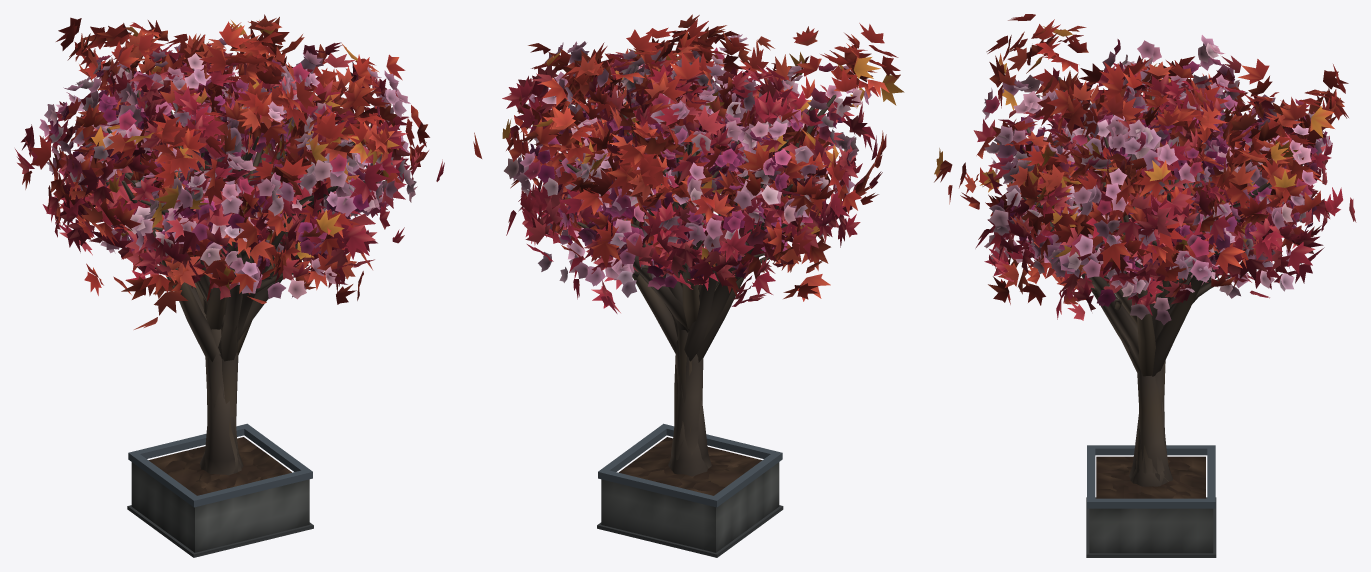
The model's file is trees317.glb.
The picture shows the model from 3 angles, left to right: view 1: azimuth 30°, elevation 25°; view 2: azimuth 150°, elevation 25°; view 3: azimuth 270°, elevation 25°; orthographic projection. The views are drawn at different scales.
Visible parts, largest first — view 1: ember-t317-leaf, maple-t317-leaf, sakura-t317-leaf, ember-t317-stone, plum-t317-leaf, ember-t317-steel, maple-t317-bark, ember-t317-bark, sakura-t317-bark, maple-t317-stone, sakura-t317-stone, plum-t317-bark (+1 smaller); view 2: ember-t317-leaf, maple-t317-leaf, sakura-t317-leaf, ember-t317-stone, plum-t317-leaf, maple-t317-bark, ember-t317-steel, sakura-t317-bark, plum-t317-bark, ember-t317-bark, maple-t317-stone, plum-t317-stone (+1 smaller); view 3: ember-t317-leaf, maple-t317-leaf, sakura-t317-leaf, ember-t317-stone, plum-t317-leaf, sakura-t317-bark, ember-t317-steel, ember-t317-bark, maple-t317-bark, plum-t317-bark, plum-t317-stone, maple-t317-stone (+1 smaller).
Part boxes in pixels (box(x1,y1,x2,y2)): ember-t317-leaf: box(22, 14, 429, 329); maple-t317-leaf: box(15, 42, 444, 299); sakura-t317-leaf: box(39, 38, 417, 299); ember-t317-stone: box(127, 437, 313, 557); plum-t317-leaf: box(49, 56, 371, 268); ember-t317-steel: box(128, 423, 312, 507); maple-t317-bark: box(116, 113, 365, 453); ember-t317-bark: box(105, 69, 354, 475); sakura-t317-bark: box(107, 96, 346, 470); maple-t317-stone: box(161, 442, 291, 492); sakura-t317-stone: box(187, 442, 285, 489); plum-t317-bark: box(116, 144, 322, 473); ember-t317-leaf: box(473, 14, 904, 301); maple-t317-leaf: box(502, 52, 882, 313); sakura-t317-leaf: box(504, 34, 871, 297); ember-t317-stone: box(597, 437, 783, 557); plum-t317-leaf: box(522, 74, 842, 289); maple-t317-bark: box(577, 140, 805, 470); ember-t317-steel: box(598, 423, 782, 507); sakura-t317-bark: box(564, 107, 814, 476); plum-t317-bark: box(611, 132, 764, 465); ember-t317-bark: box(559, 77, 836, 468); maple-t317-stone: box(619, 440, 757, 491); plum-t317-stone: box(634, 447, 762, 491); ember-t317-leaf: box(934, 14, 1348, 305); maple-t317-leaf: box(973, 55, 1356, 320); sakura-t317-leaf: box(982, 35, 1332, 324); ember-t317-stone: box(1086, 456, 1216, 557); plum-t317-leaf: box(996, 57, 1327, 306); sakura-t317-bark: box(1026, 127, 1260, 484); ember-t317-steel: box(1087, 445, 1215, 508); ember-t317-bark: box(1011, 76, 1283, 483); maple-t317-bark: box(1085, 120, 1255, 481); plum-t317-bark: box(1050, 145, 1245, 486); plum-t317-stone: box(1096, 456, 1205, 498); maple-t317-stone: box(1096, 456, 1190, 498).
Bounding box in the file's own units: 3.48 × 4.31 × 3.52.
